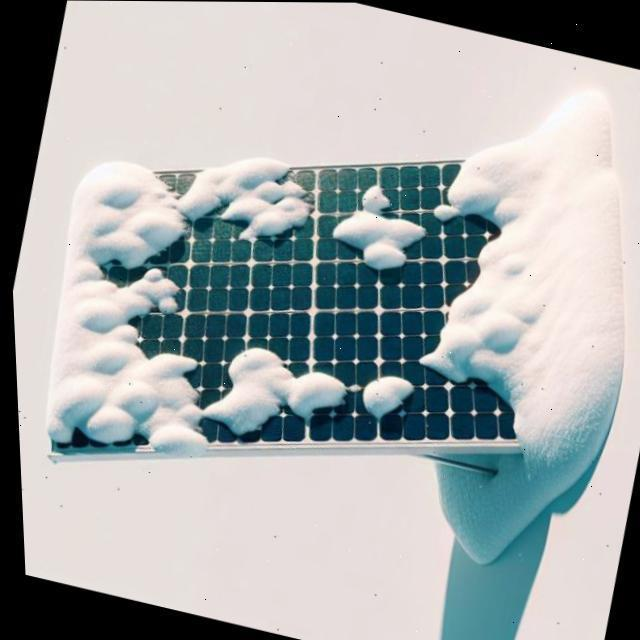Anomaly Solar Panel: (24, 158, 578, 457)
Snow: (400, 66, 640, 494), (25, 156, 343, 454), (324, 180, 426, 283), (346, 361, 410, 423)
